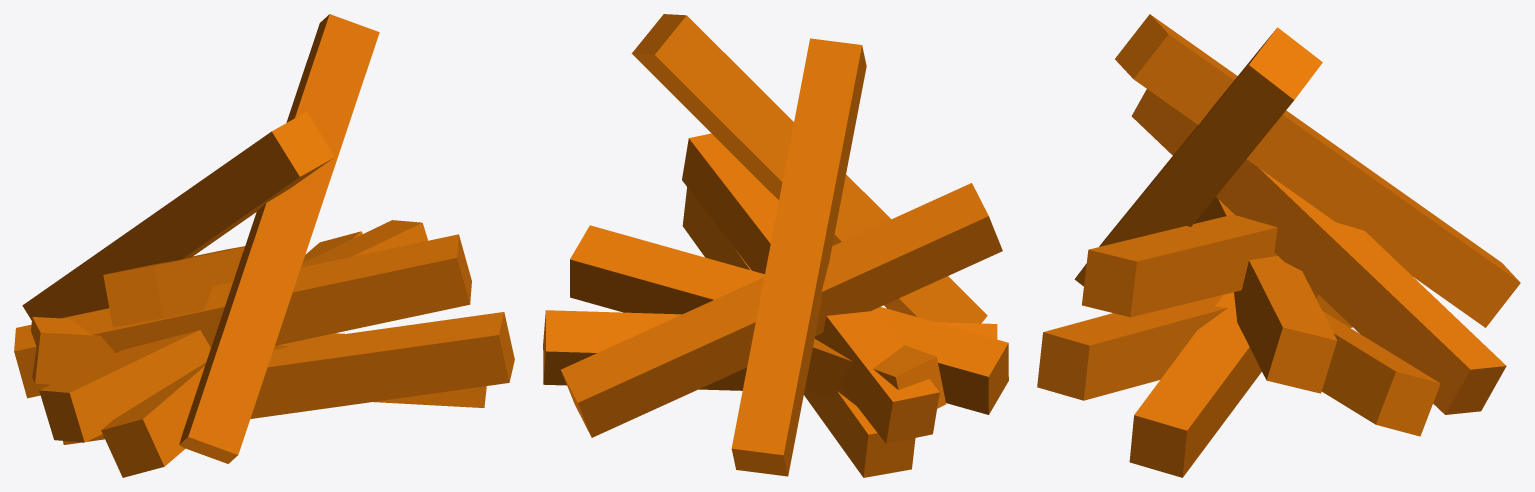
Rendered from Fries.fbx.
The picture shows the model from 3 angles, left to right: view 1: azimuth 30°, elevation 25°; view 2: azimuth 150°, elevation 25°; view 3: azimuth 270°, elevation 25°; orthographic projection. The views are drawn at different scales.
Parts seen in each view (by area): view 1: FriesPile; view 2: FriesPile; view 3: FriesPile.
Part boxes in pixels (<box>): FriesPile: <box>14,14,514,477</box>; FriesPile: <box>543,14,1008,477</box>; FriesPile: <box>1037,14,1520,477</box>.
Bounding box in the file's own units: 365 × 329 × 350.
